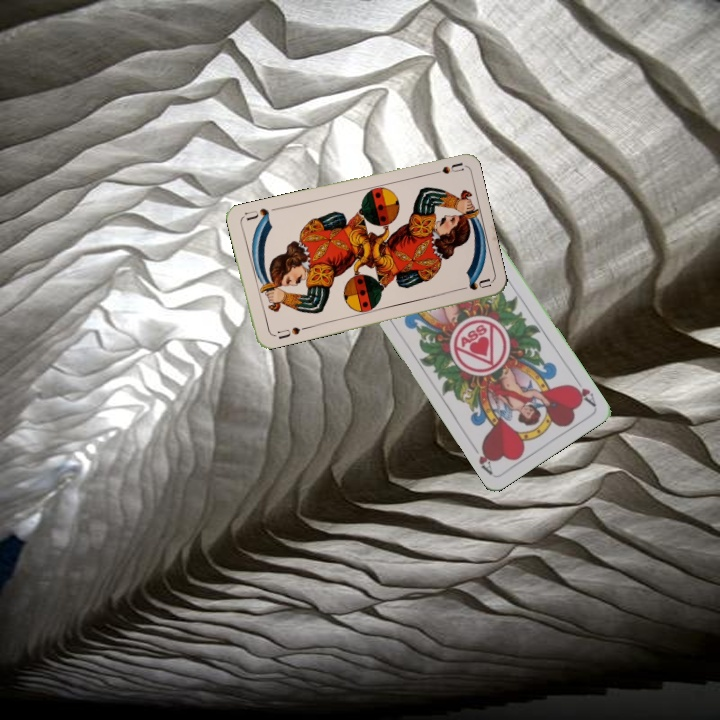HA: (567, 373, 598, 409)
SU: (424, 159, 465, 178), (273, 323, 303, 342)
